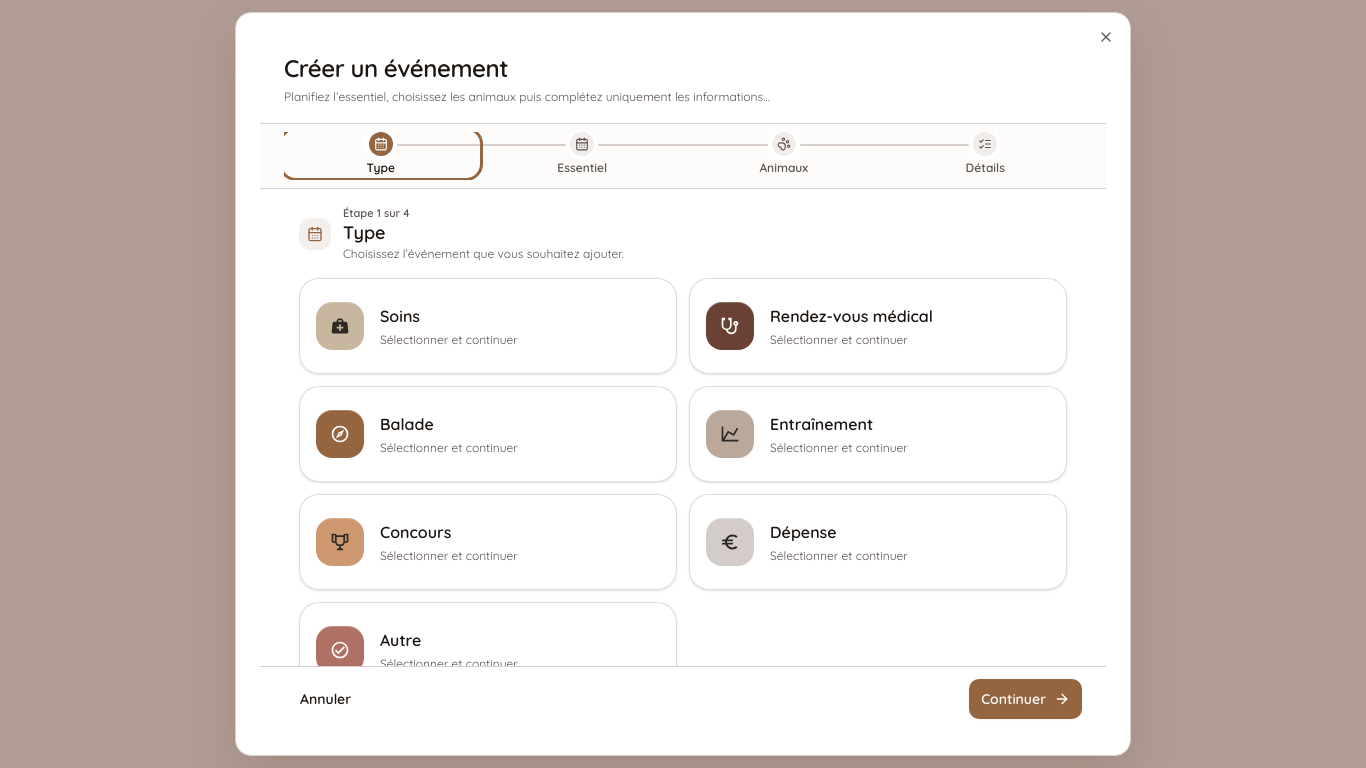
Scenario: EventFormDrawer › permet de choisir le type lorsqu’une création démarre depuis une date seule
Expected: the button "Rendez-vous médical Sélectionner et continuer" is shown, left=689, top=278, right=1067, bottom=374
Expected: the navigation bar named "Étapes du formulaire" is shown, left=260, top=124, right=1106, bottom=189
Click the button "Soins Sélectionner et continuer".
click(340, 326)  # box left=299, top=278, right=677, bottom=374
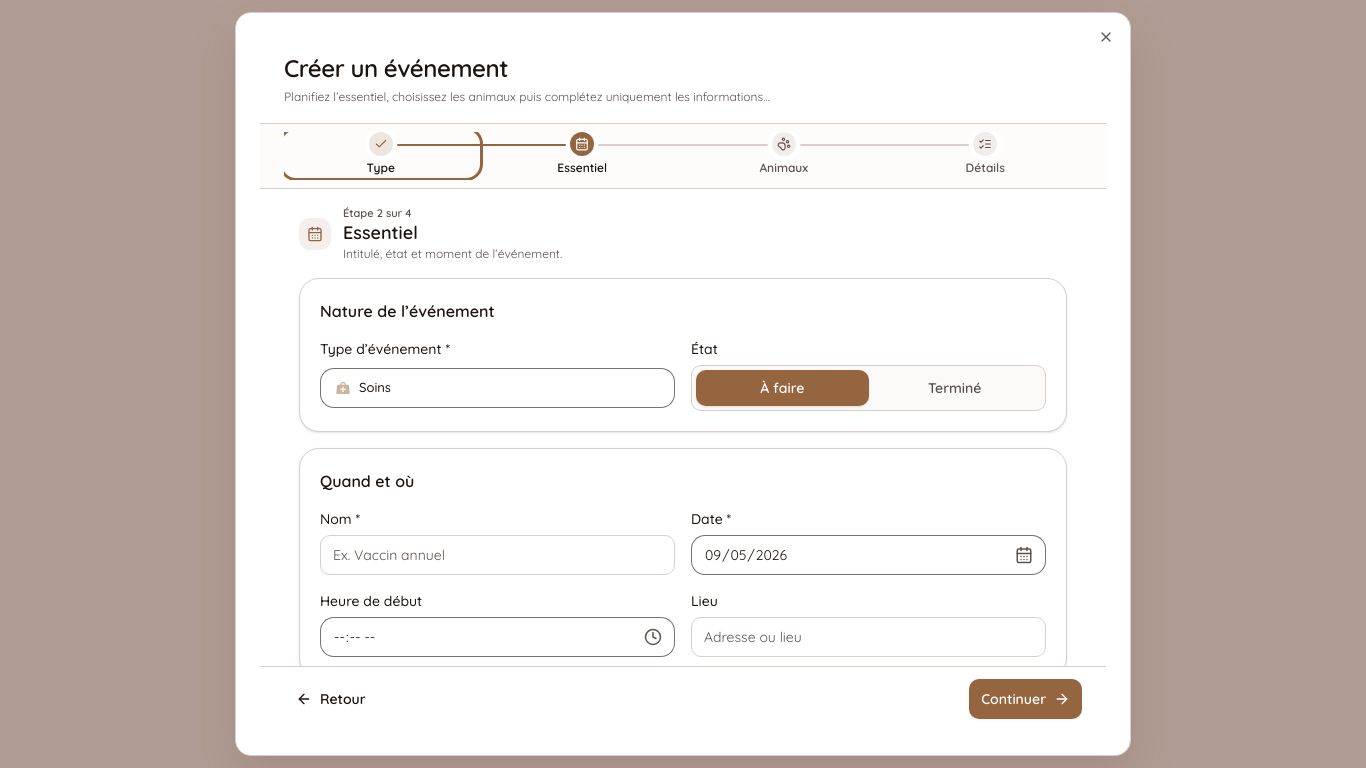
Expected: the text "Soins" is shown, left=359, top=378, right=391, bottom=398
Expected: the heading "Essentiel" is shown, left=343, top=220, right=418, bottom=244
Expected: the text "Type d’événement *" is shown, left=320, top=340, right=450, bottom=358
